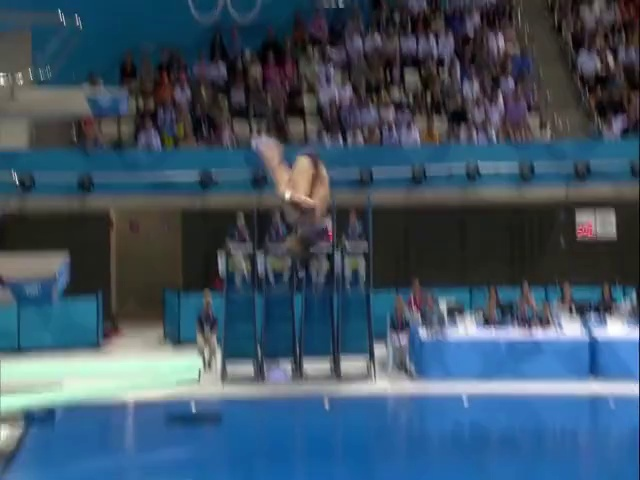diver: (251, 139, 333, 263)
